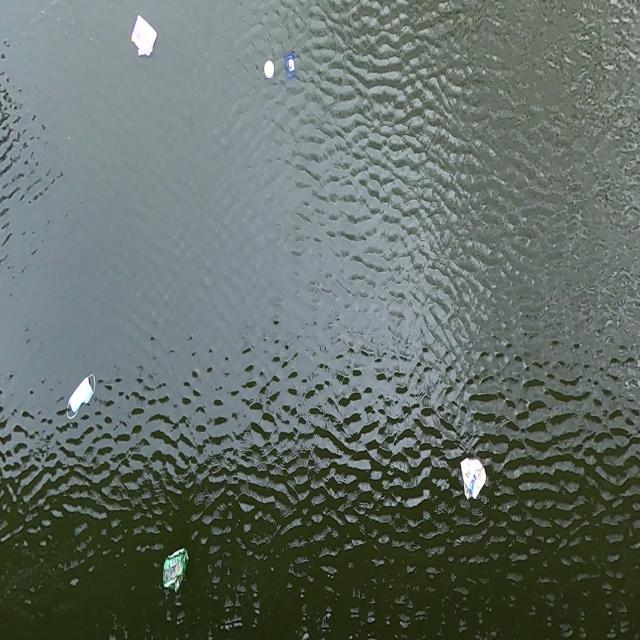Autre plastique: (283, 51, 299, 82), (262, 56, 277, 81)
Non plastique: (65, 365, 99, 425)
Sac plastique: (160, 546, 192, 597)
